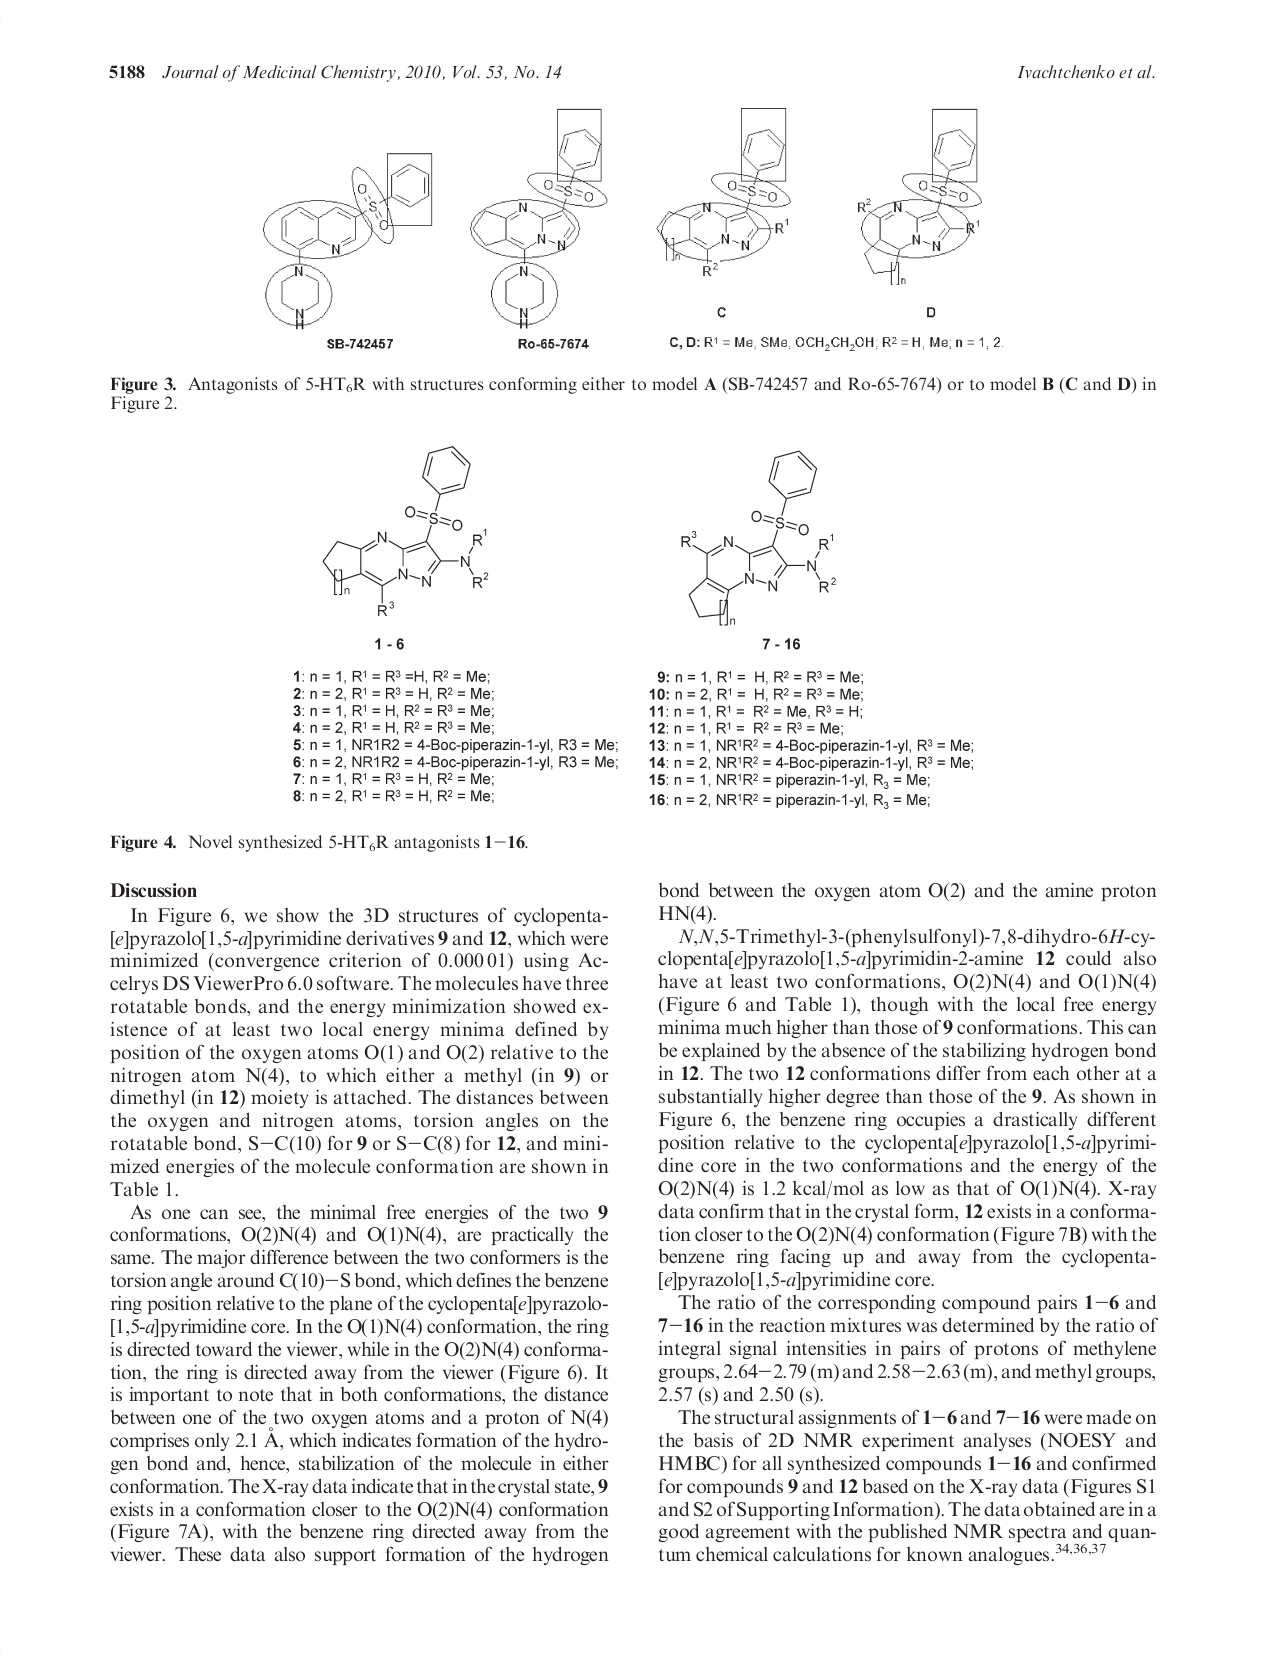exist_molecular: (318, 439, 492, 618), (677, 448, 836, 636), (473, 126, 604, 327), (278, 164, 432, 328), (854, 122, 981, 286), (658, 129, 789, 274)
